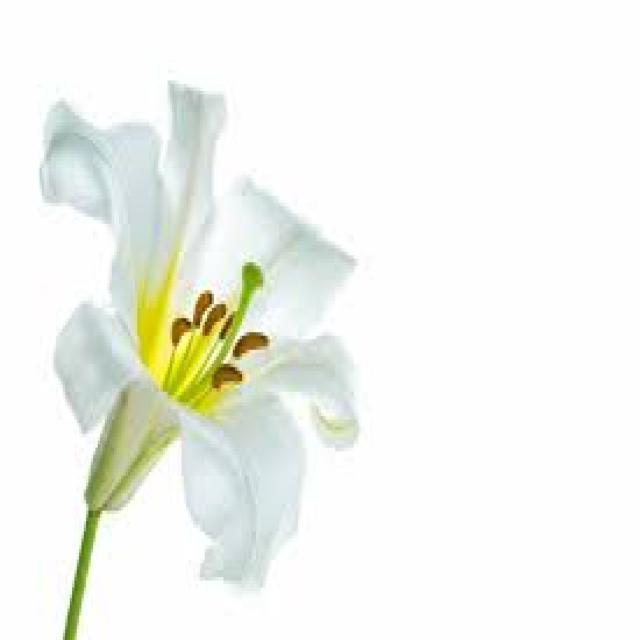lily: (13, 55, 376, 610)
